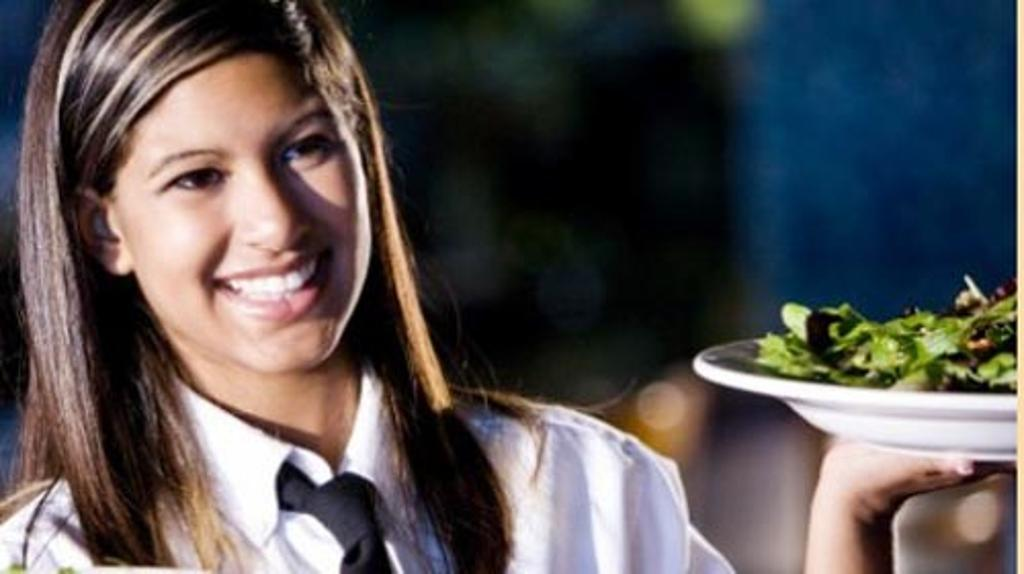face: (117, 53, 371, 369)
